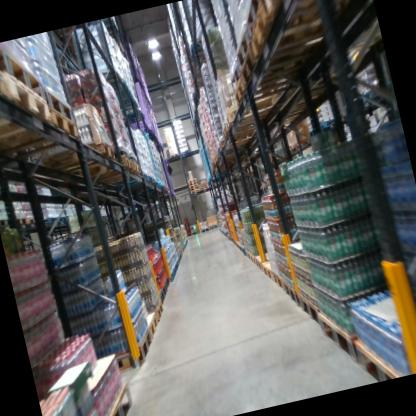pallet: (225, 43, 350, 110), (242, 0, 364, 62), (233, 20, 344, 87), (0, 96, 88, 167), (0, 58, 55, 139), (37, 136, 124, 181), (353, 325, 410, 384), (101, 326, 160, 381), (318, 306, 363, 375), (59, 150, 135, 187), (222, 93, 292, 128), (77, 158, 147, 190), (93, 377, 142, 416), (298, 287, 330, 345), (223, 107, 281, 138), (259, 0, 344, 19), (340, 84, 385, 119), (217, 126, 270, 155), (221, 115, 263, 140), (305, 113, 341, 140), (282, 272, 304, 307), (139, 310, 161, 339), (146, 296, 167, 324), (262, 259, 280, 285), (255, 254, 276, 274), (271, 270, 285, 295), (158, 281, 170, 301), (298, 135, 314, 149), (249, 249, 258, 270), (292, 140, 303, 154), (158, 289, 167, 305), (244, 247, 253, 262), (167, 271, 176, 284), (162, 277, 171, 289), (285, 146, 295, 156), (198, 184, 210, 192), (200, 225, 210, 234), (189, 188, 201, 195), (209, 223, 219, 231), (187, 177, 198, 184), (242, 245, 248, 257), (189, 186, 200, 191), (188, 181, 198, 186), (189, 183, 199, 188)
